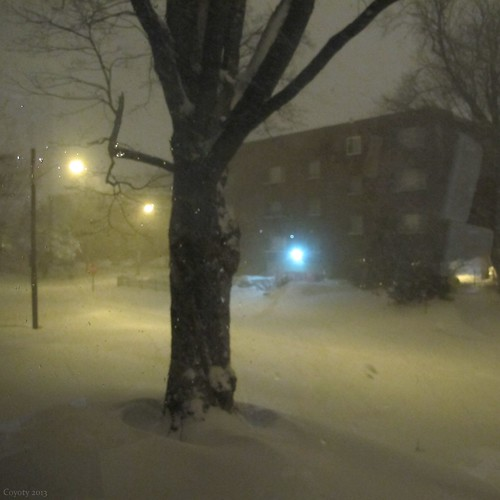building: (232, 103, 500, 277)
tree: (117, 1, 306, 416)
